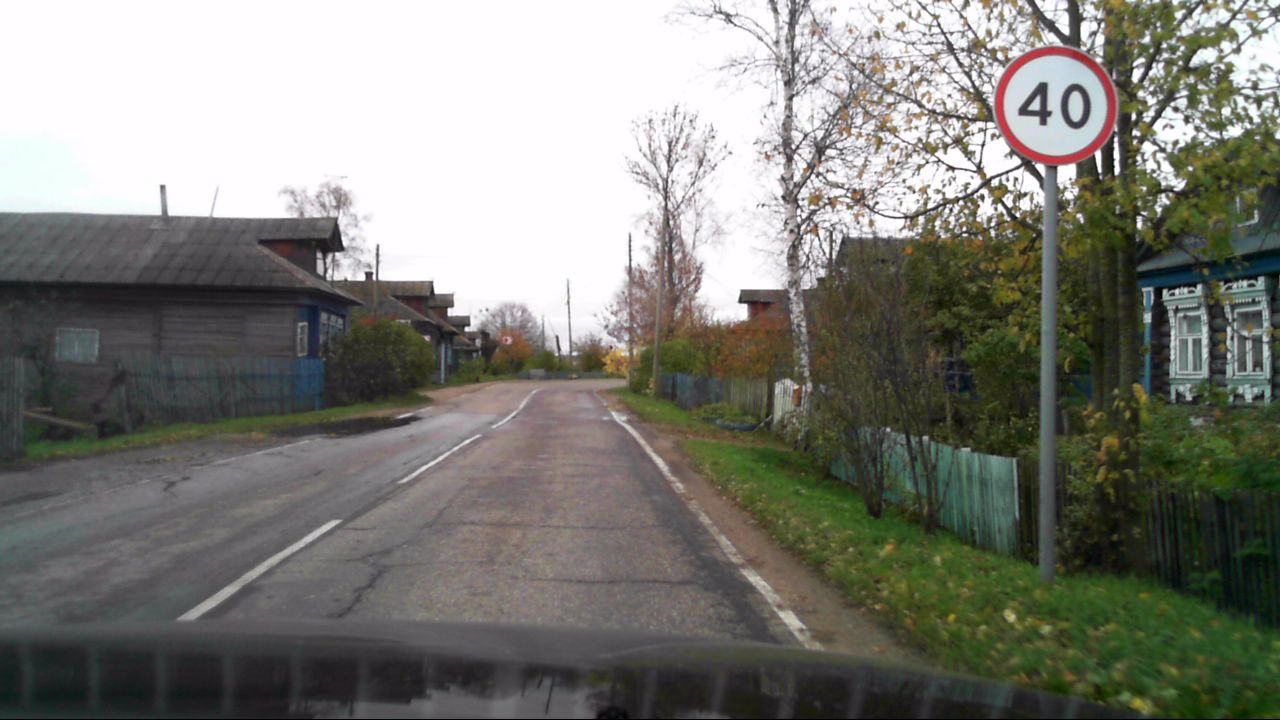speed_warning_40: (990, 43, 1121, 169)
